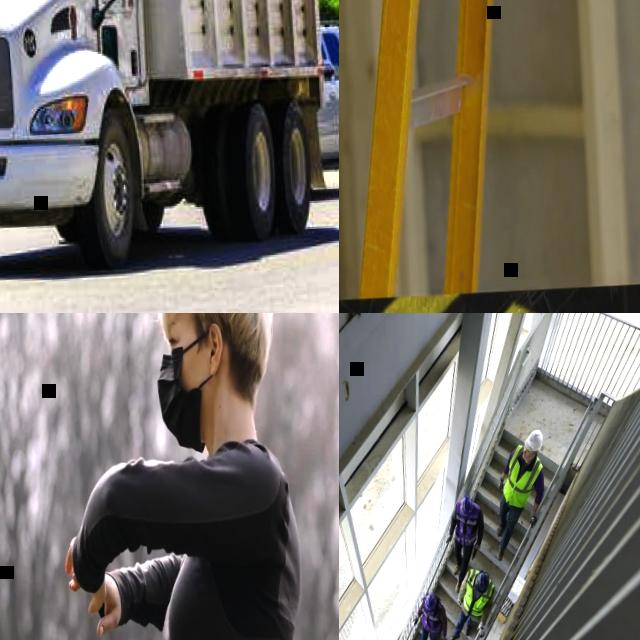Hardhat: (522, 430, 544, 452), (459, 494, 474, 520), (475, 570, 490, 594), (422, 592, 437, 614)
Mask: (156, 346, 207, 452)
NO-Mask: (522, 454, 532, 462)
NO-Safety Vest: (154, 452, 312, 640)
Person: (48, 313, 315, 640), (489, 429, 549, 562), (443, 494, 487, 593), (443, 567, 498, 640), (410, 592, 448, 640)
Safety Vest: (501, 443, 546, 508), (461, 567, 496, 617), (453, 500, 482, 546), (422, 594, 444, 630)
vehicle: (0, 0, 334, 283), (309, 15, 339, 197)
